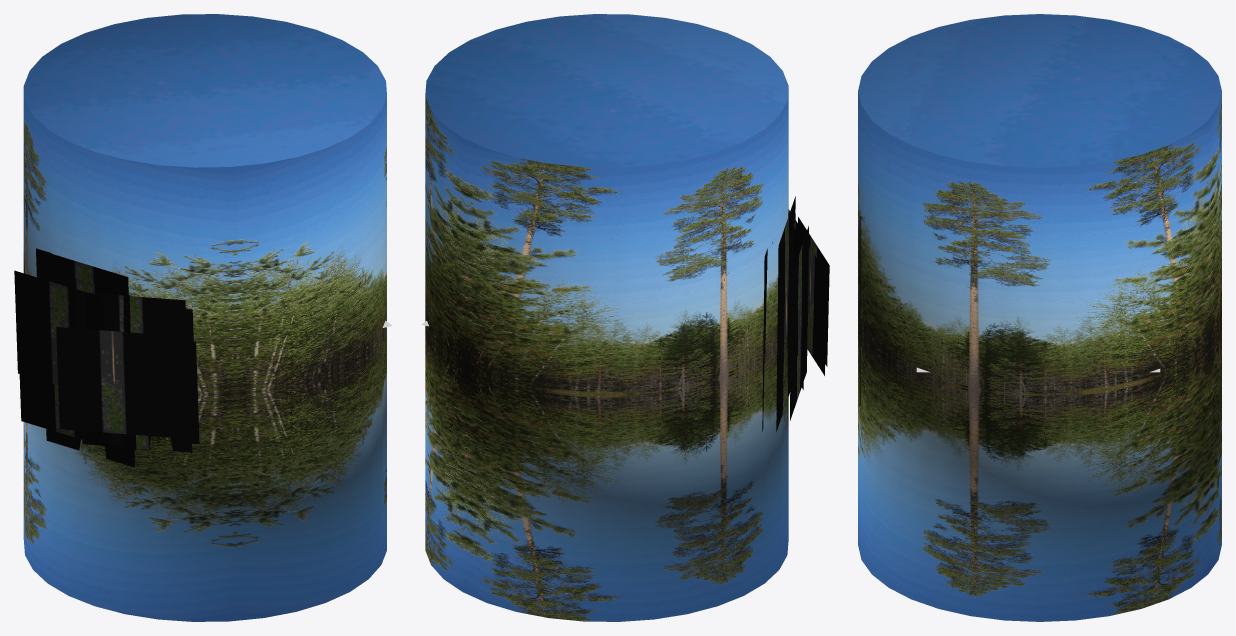
Rendered from MäntyKallio.fbx.
The picture shows the model from 3 angles, left to right: view 1: azimuth 30°, elevation 25°; view 2: azimuth 150°, elevation 25°; view 3: azimuth 270°, elevation 25°; orthographic projection.
Parts seen in each view (by area): view 1: Cylinder, Plane.098, Plane.035, Plane.048, Plane.084, Plane.034, Plane.097, Plane.028, Plane.083, Plane.042; view 2: Cylinder, Plane.098, Plane.035, Plane.028, Plane.083, Plane.084, Plane.049; view 3: Cylinder.
Boxes of the visible parts, left/top/right/bottom form: Cylinder: left=23, top=14, right=386, bottom=621; Plane.098: left=56, top=327, right=169, bottom=437; Plane.035: left=14, top=270, right=103, bottom=385; Plane.048: left=75, top=292, right=188, bottom=402; Plane.084: left=19, top=374, right=109, bottom=447; Plane.034: left=39, top=250, right=128, bottom=294; Plane.097: left=82, top=409, right=192, bottom=452; Plane.028: left=41, top=268, right=130, bottom=332; Plane.083: left=46, top=429, right=134, bottom=467; Plane.042: left=168, top=309, right=196, bottom=411; Cylinder: left=425, top=14, right=788, bottom=621; Plane.098: left=807, top=247, right=827, bottom=375; Plane.035: left=791, top=226, right=808, bottom=374; Plane.028: left=777, top=213, right=795, bottom=362; Plane.083: left=776, top=325, right=790, bottom=432; Plane.084: left=790, top=319, right=807, bottom=420; Plane.049: left=798, top=217, right=829, bottom=366; Cylinder: left=858, top=14, right=1221, bottom=621.
Bounding box in the file's own units: 4504 × 5656 × 4107.
